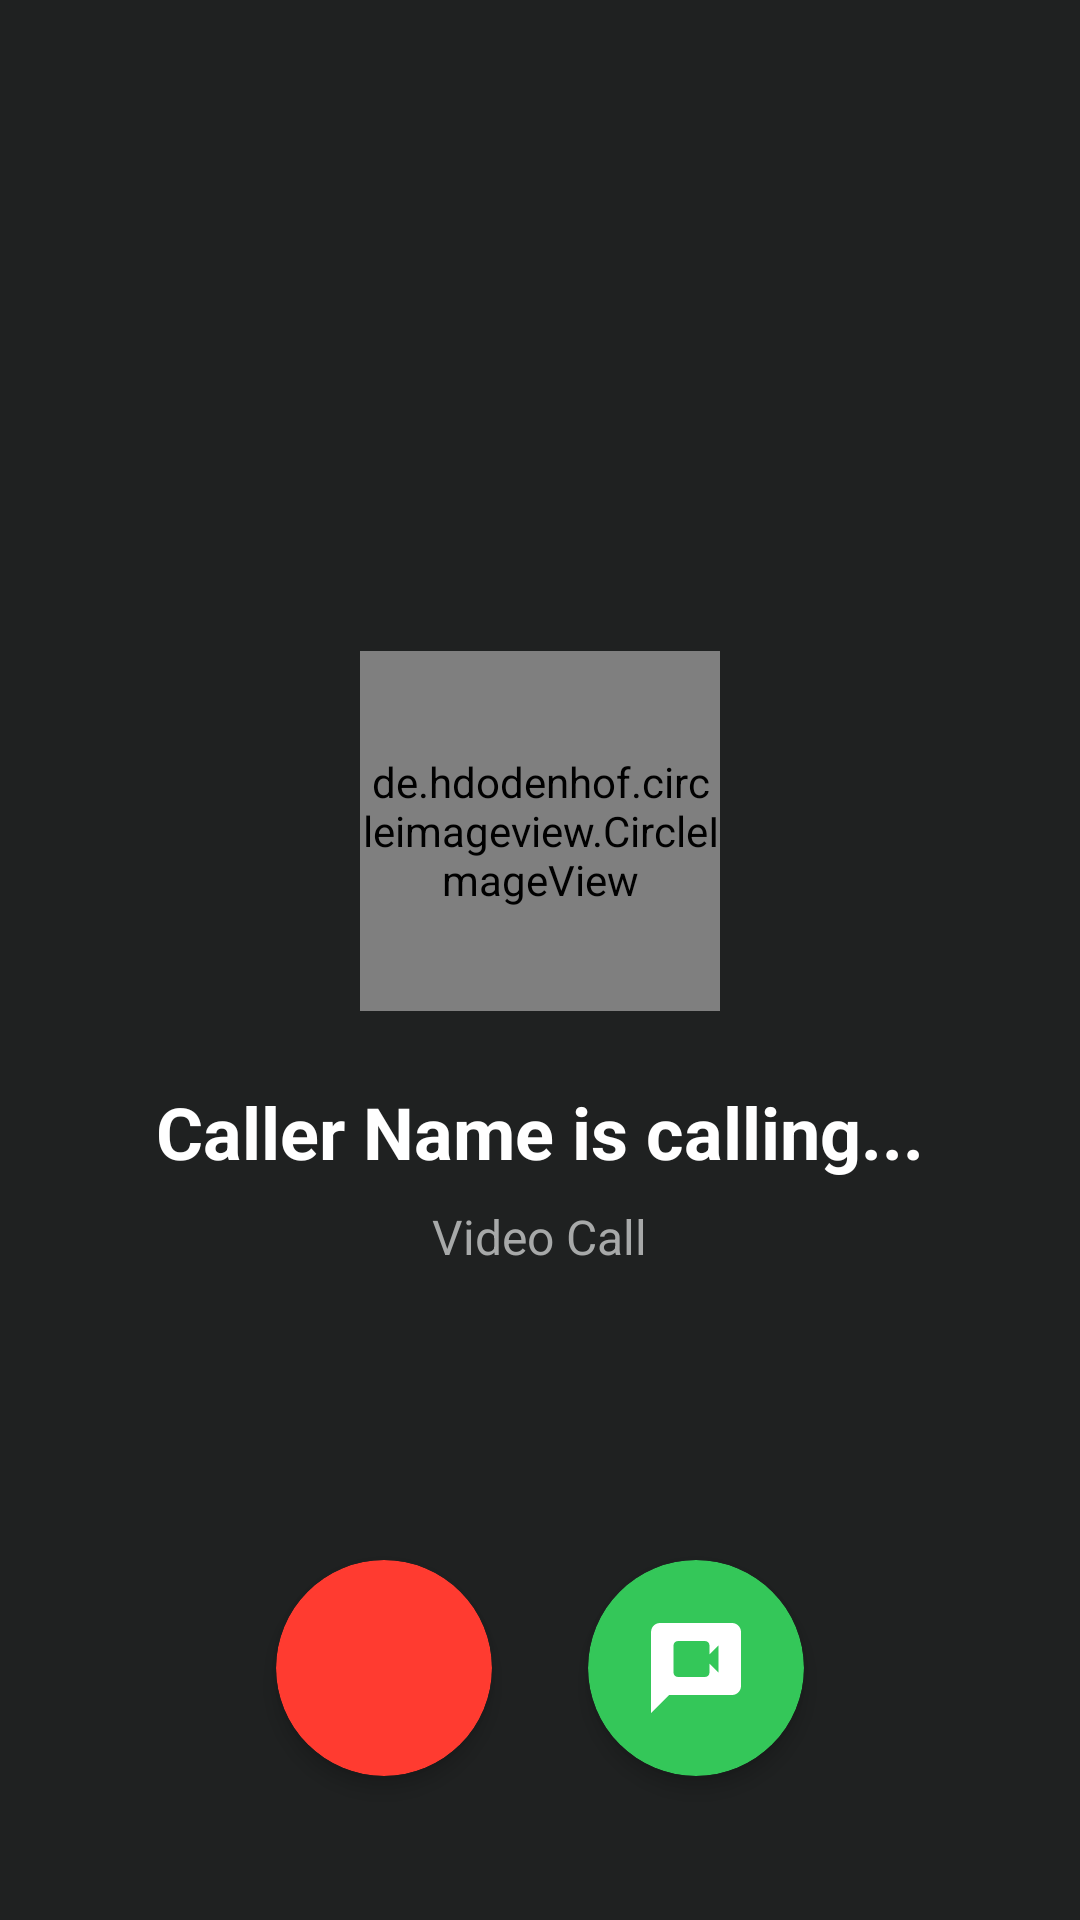

Screen size 1080w x 1920h. Icon name, then its center in pixels as (x,y):
video call: (696,1668)
